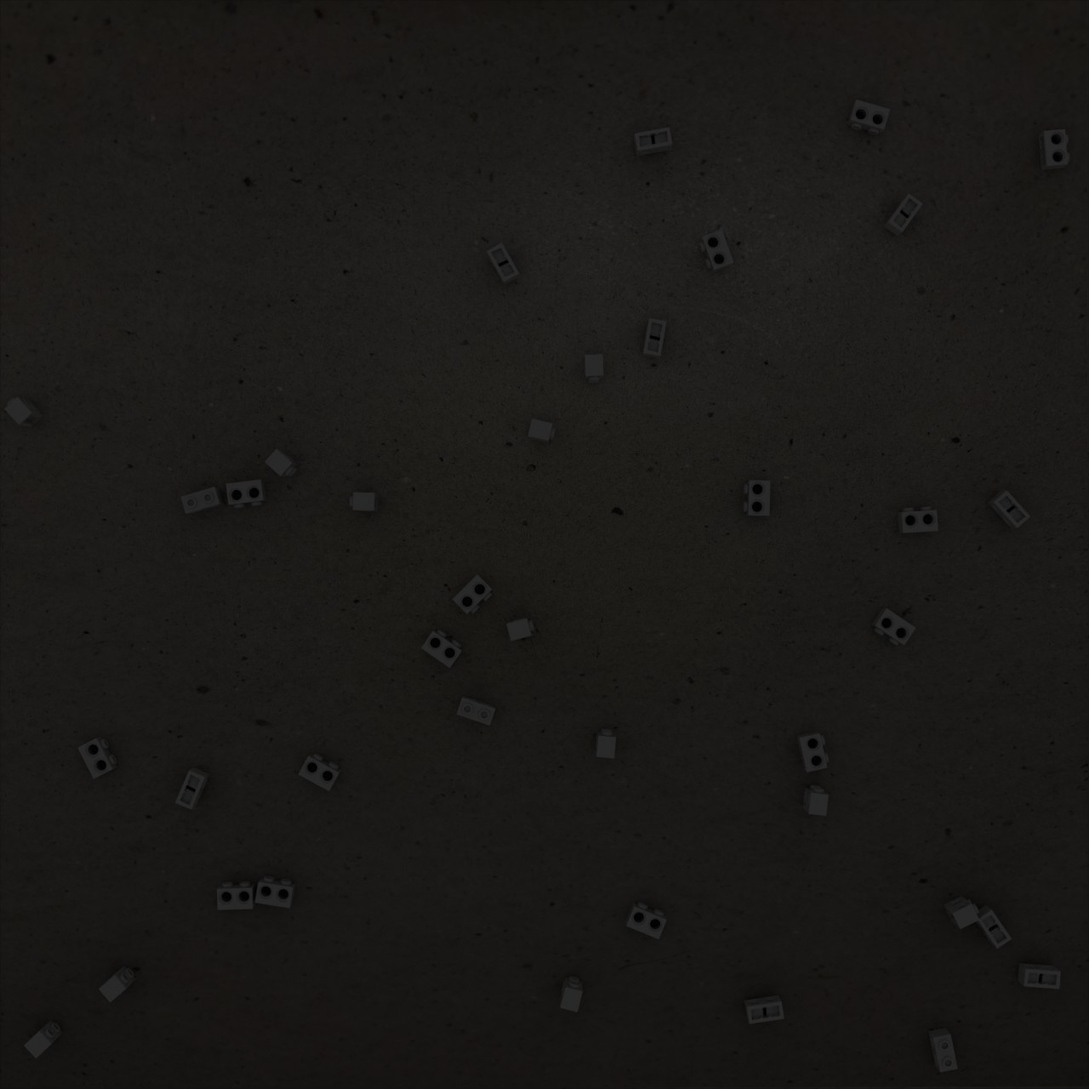lego: (971, 905, 1012, 949), (883, 193, 923, 237), (871, 607, 916, 646), (77, 736, 117, 779), (988, 490, 1031, 529), (452, 574, 493, 614), (421, 629, 463, 668), (298, 753, 341, 791), (625, 902, 667, 940), (847, 99, 890, 135), (699, 229, 734, 273), (24, 1020, 63, 1059), (175, 767, 210, 810), (486, 243, 520, 286), (98, 965, 136, 1003), (796, 731, 829, 772), (928, 1028, 958, 1072), (1038, 129, 1070, 170), (255, 876, 296, 908), (456, 695, 496, 726), (943, 896, 980, 929), (4, 397, 44, 427), (226, 479, 267, 508), (181, 487, 224, 514), (744, 995, 784, 1024), (633, 127, 673, 156), (217, 881, 256, 910), (1018, 963, 1061, 989), (898, 507, 938, 533), (642, 318, 667, 359), (264, 449, 298, 478), (743, 480, 770, 516), (560, 976, 583, 1012), (803, 785, 829, 816), (528, 419, 556, 443), (506, 617, 534, 641), (595, 729, 616, 759), (584, 354, 604, 383), (350, 492, 378, 511)
